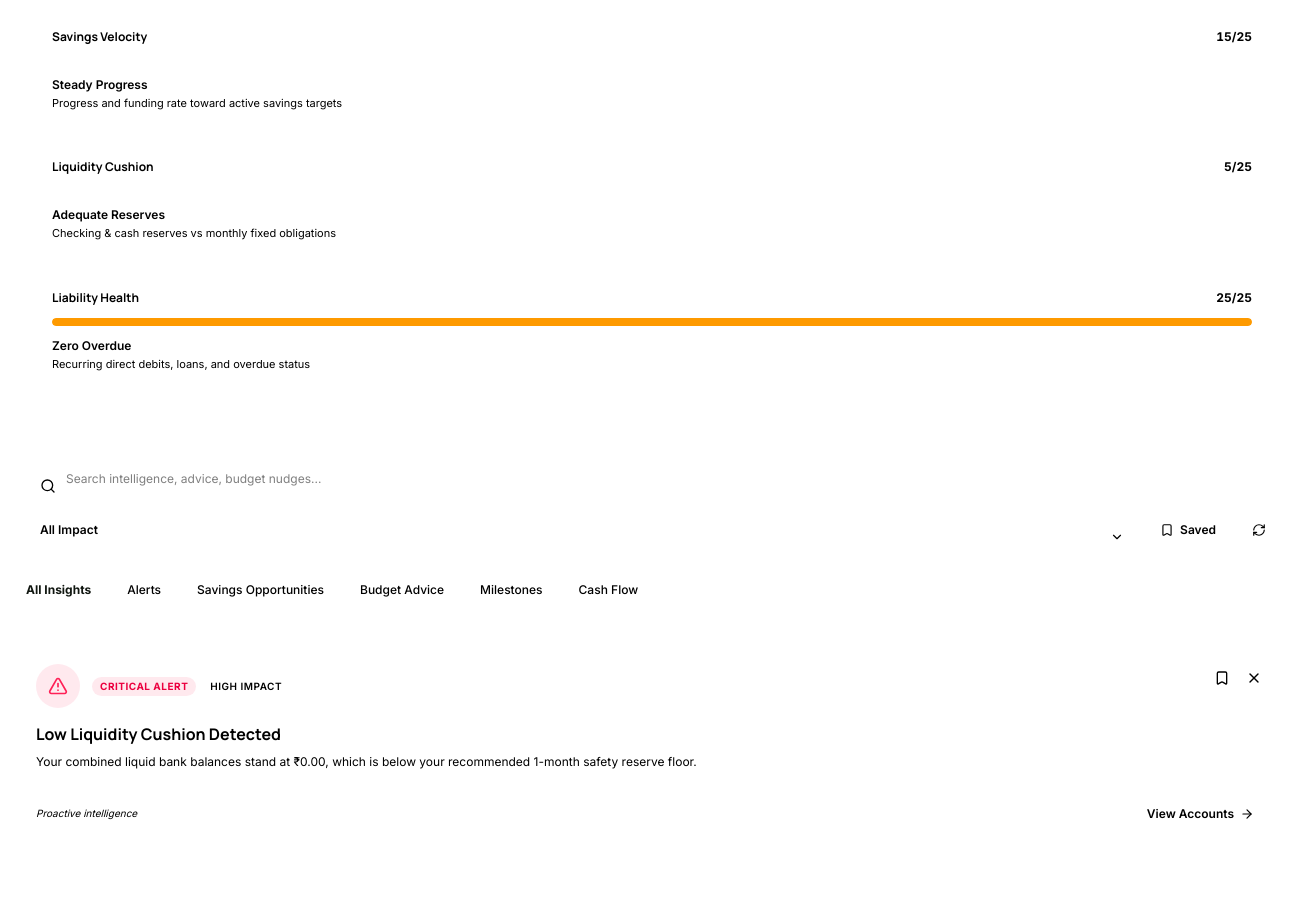
SPENDX Financial Insights & Intelligence Page › filters insights by search input
(page scrolled)
In the field with placeholder "Search intelligence, advice, budget nudges...": (652, 478) [26,458,1278,498], type "NonexistentFilterTextXYZ99"
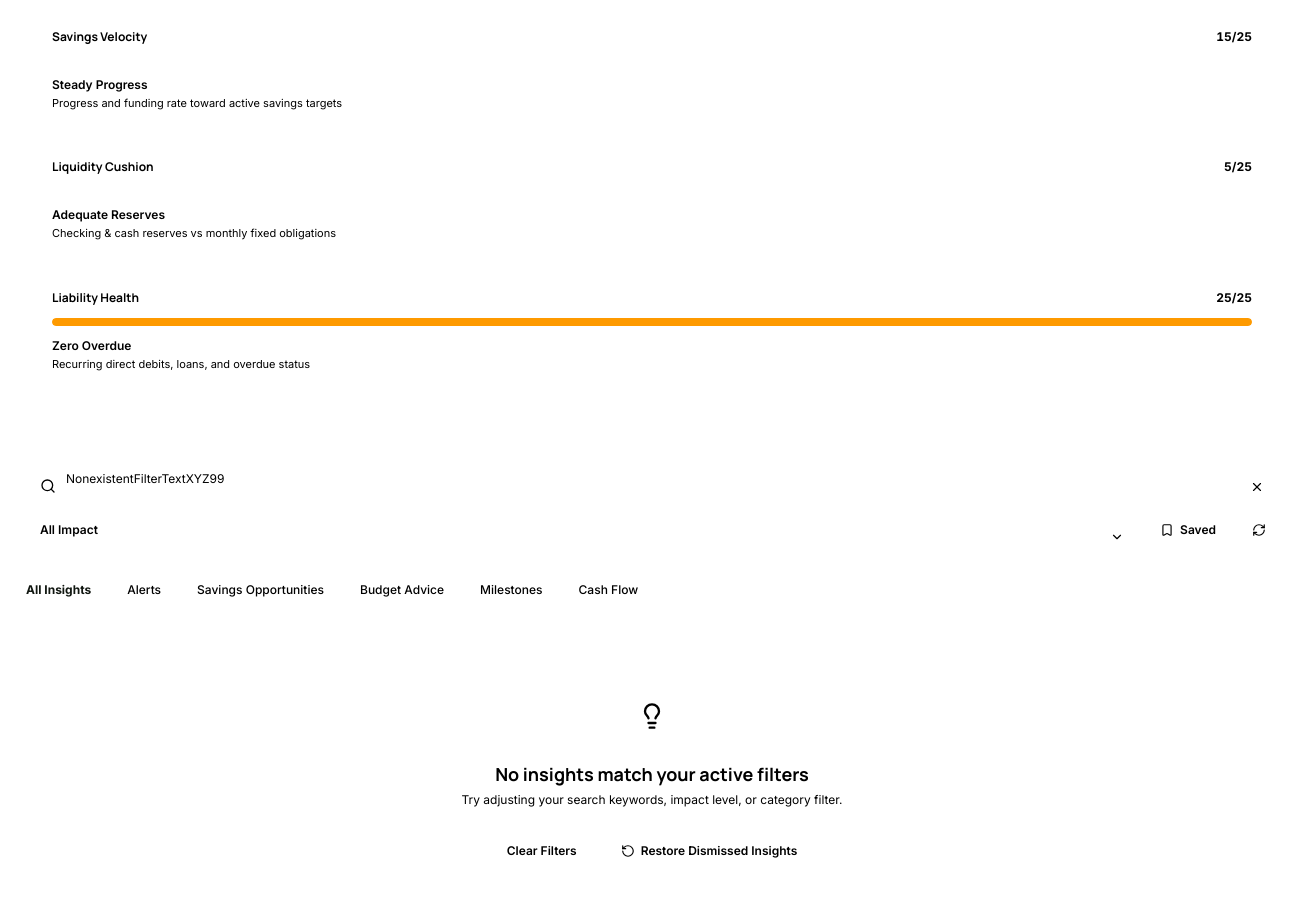
Check: the heading "No insights match your active filters" is shown, box [495,762,809,786]
